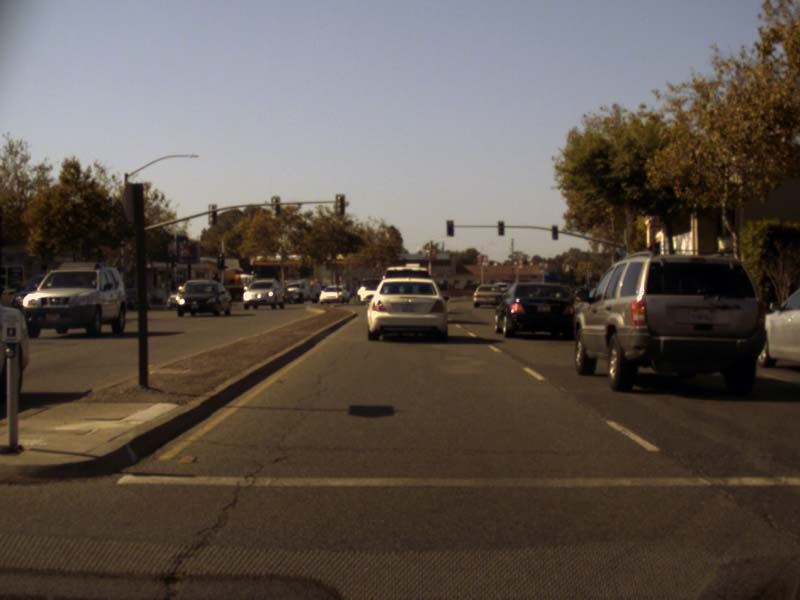Red: (445, 219, 454, 236)
